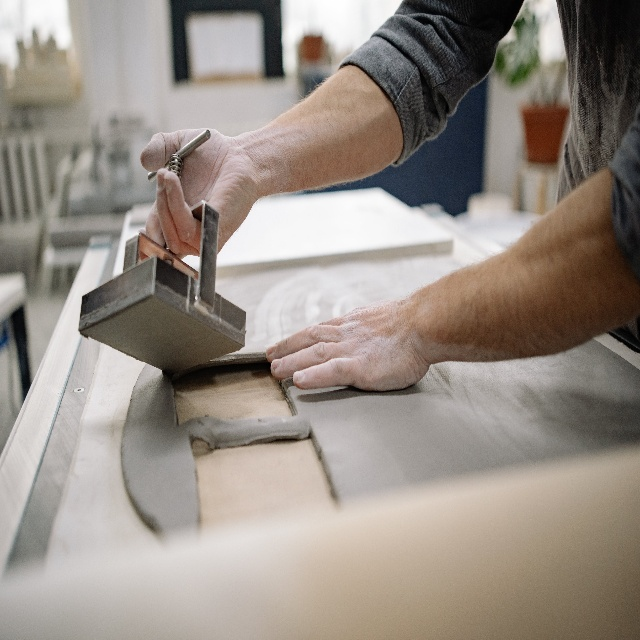Sin_guantes: (265, 294, 430, 392), (140, 127, 257, 258)
